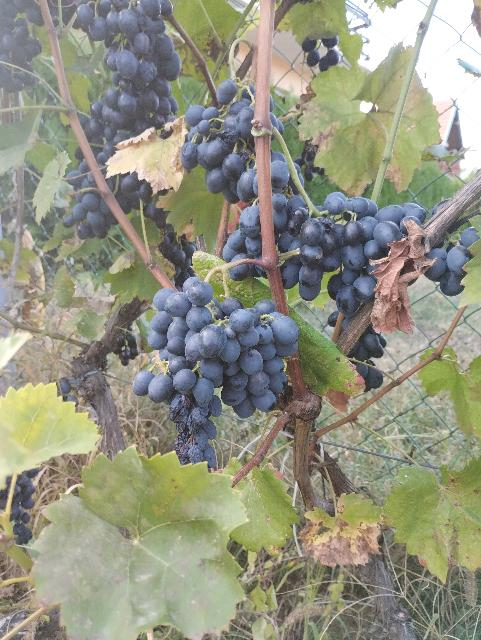grapes: (132, 278, 300, 468), (274, 191, 428, 332), (181, 101, 255, 201), (422, 215, 480, 296), (349, 325, 388, 391), (224, 219, 262, 262)
